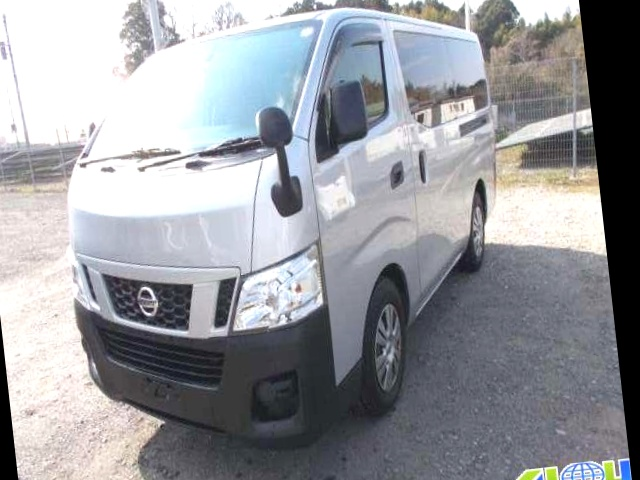van: (41, 0, 525, 443)
